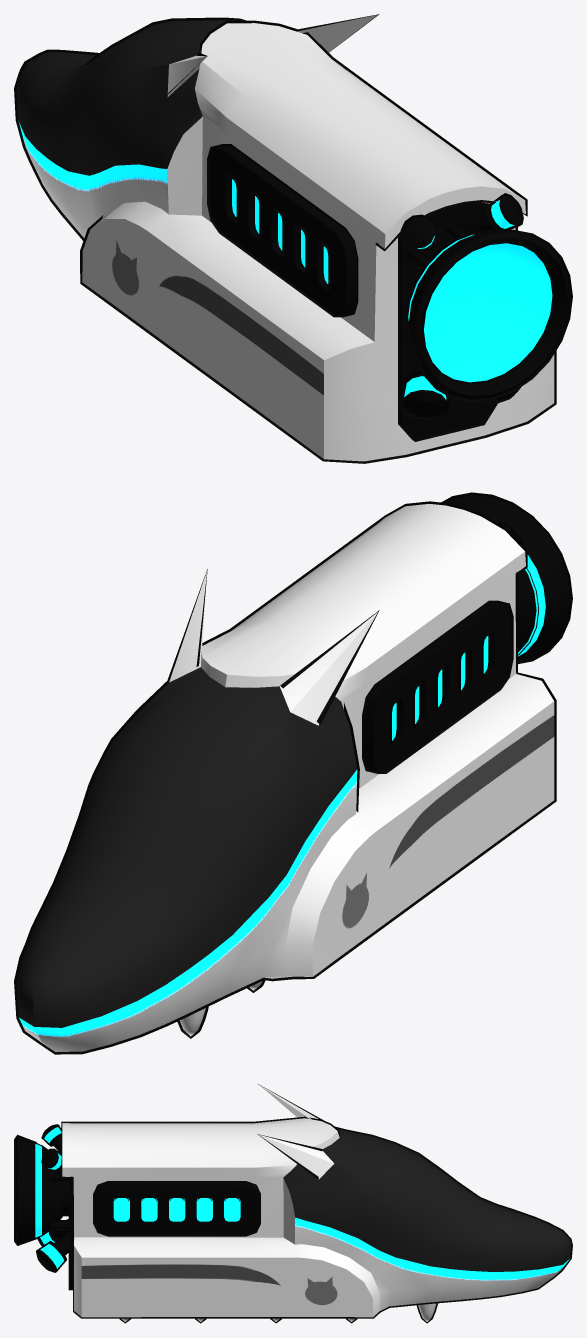
Rendered from the_battle_cats_-_bullet_train_cat.glb.
3 renders of one model, top to bottom at view 1: azimuth 30°, elevation 25°; view 2: azimuth 150°, elevation 25°; view 3: azimuth 270°, elevation 25°, orthographic. The views are drawn at different scales.
Parts seen in each view (by area): view 1: TrainBody; view 2: TrainBody; view 3: TrainBody.
Boxes of the visible parts, x1,y1,x2,y2 form: TrainBody: (14, 14, 572, 463); TrainBody: (14, 492, 572, 1054); TrainBody: (14, 1084, 572, 1323).
Size of the model in its own units: 2.05 by 2.83 by 7.04.
Materials: 3 (2 with a texture image).
